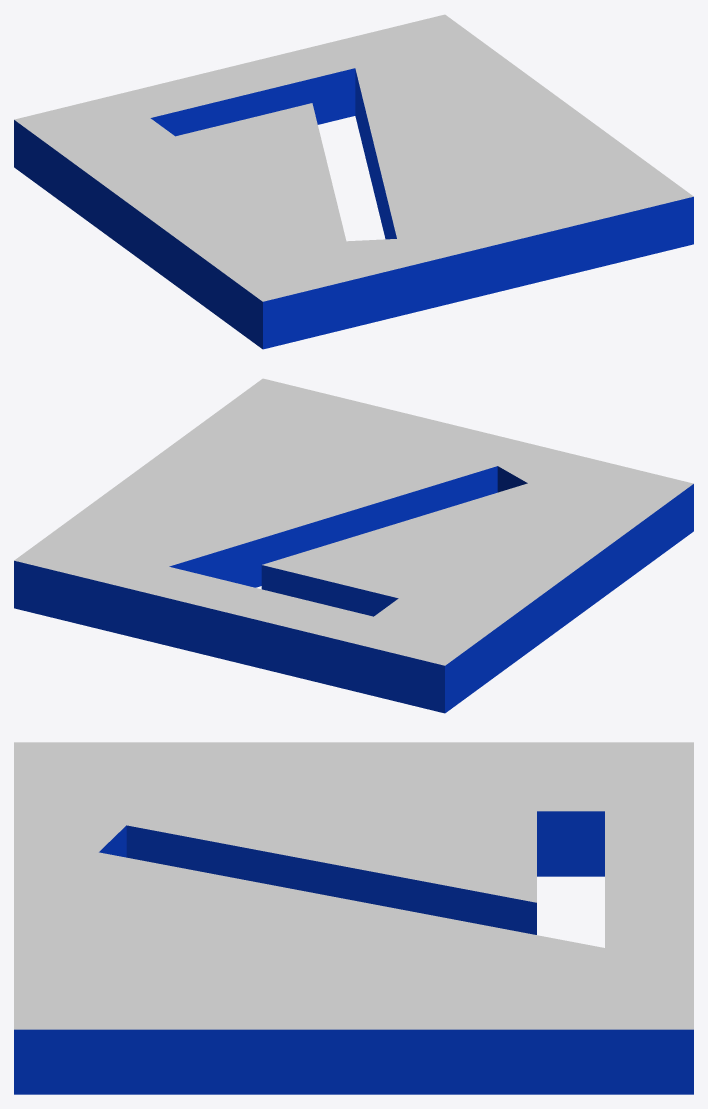
File: stracout7.fbx
3 renders of one model, top to bottom at view 1: azimuth 30°, elevation 25°; view 2: azimuth 150°, elevation 25°; view 3: azimuth 270°, elevation 25°, orthographic. The views are drawn at different scales.
Parts seen in each view (by area): view 1: 7; view 2: 7; view 3: 7.
Boxes of the visible parts, x1,y1,x2,y2 form: 7: (14, 14, 693, 349); 7: (14, 378, 693, 713); 7: (14, 742, 693, 1094).
Size of the model in its own units: 464 by 49.06 by 464.
